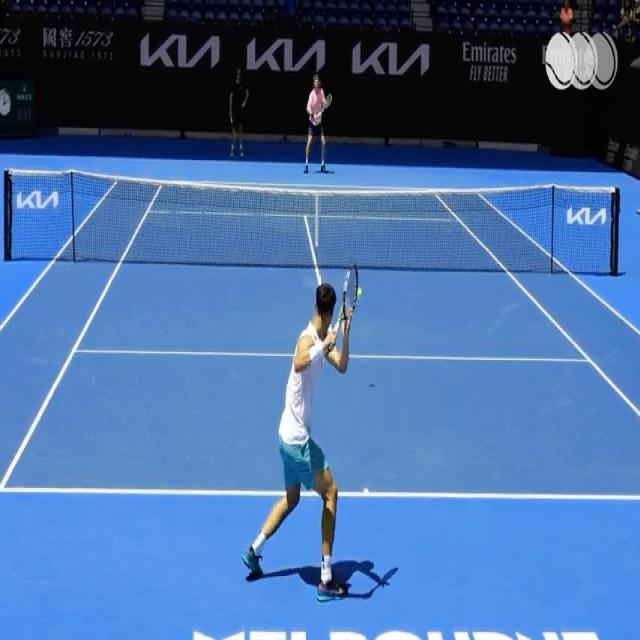forehand-ready: (248, 263, 359, 595)
